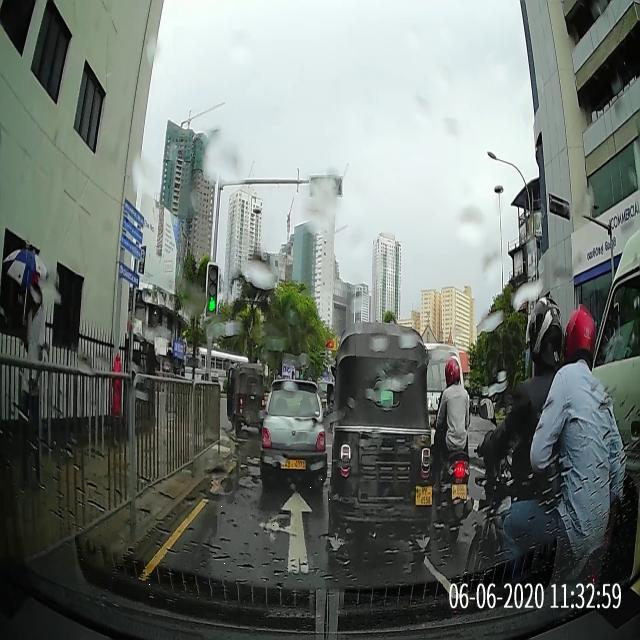forward_lft: (144, 479, 342, 585)
